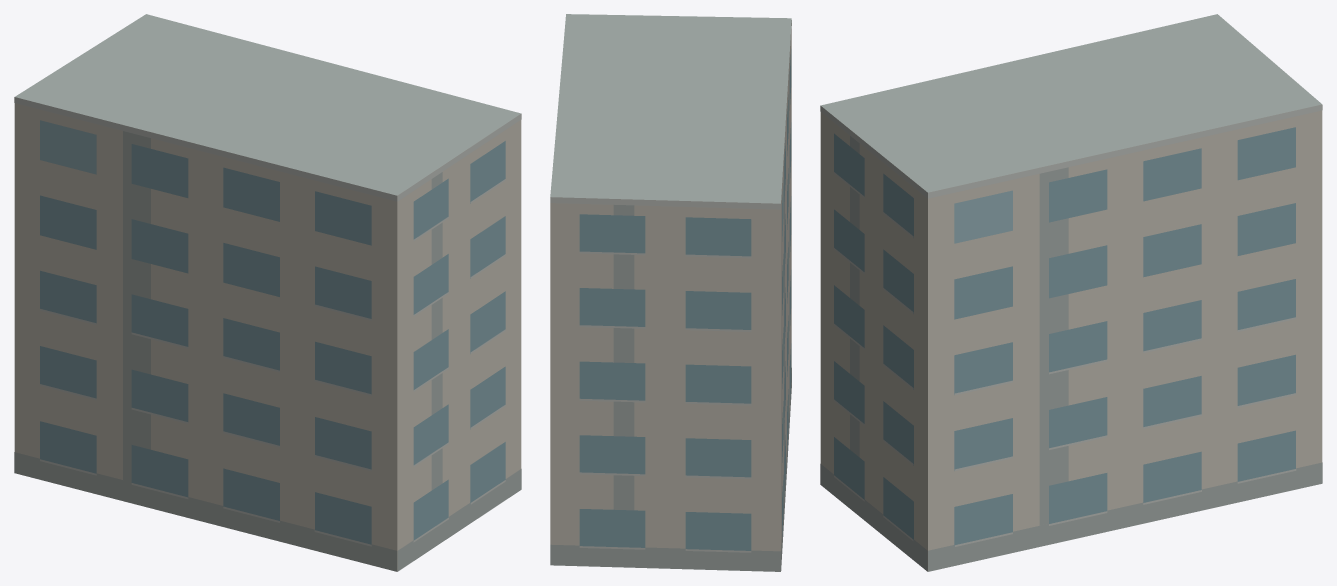
File: survey-upis-32837166.glb
3 renders of one model, left to right at view 1: azimuth 30°, elevation 25°; view 2: azimuth 150°, elevation 25°; view 3: azimuth 270°, elevation 25°, orthographic. The views are drawn at different scales.
Parts seen in each view (by area): view 1: survey-upis-32837166.tmp; view 2: survey-upis-32837166.tmp; view 3: survey-upis-32837166.tmp.
Part boxes in pixels (x1,y1,x2,y2): survey-upis-32837166.tmp: (14, 14, 521, 571); survey-upis-32837166.tmp: (550, 14, 791, 571); survey-upis-32837166.tmp: (820, 14, 1322, 571).
Size of the model in its own units: 15.42 by 15.25 by 18.31.
